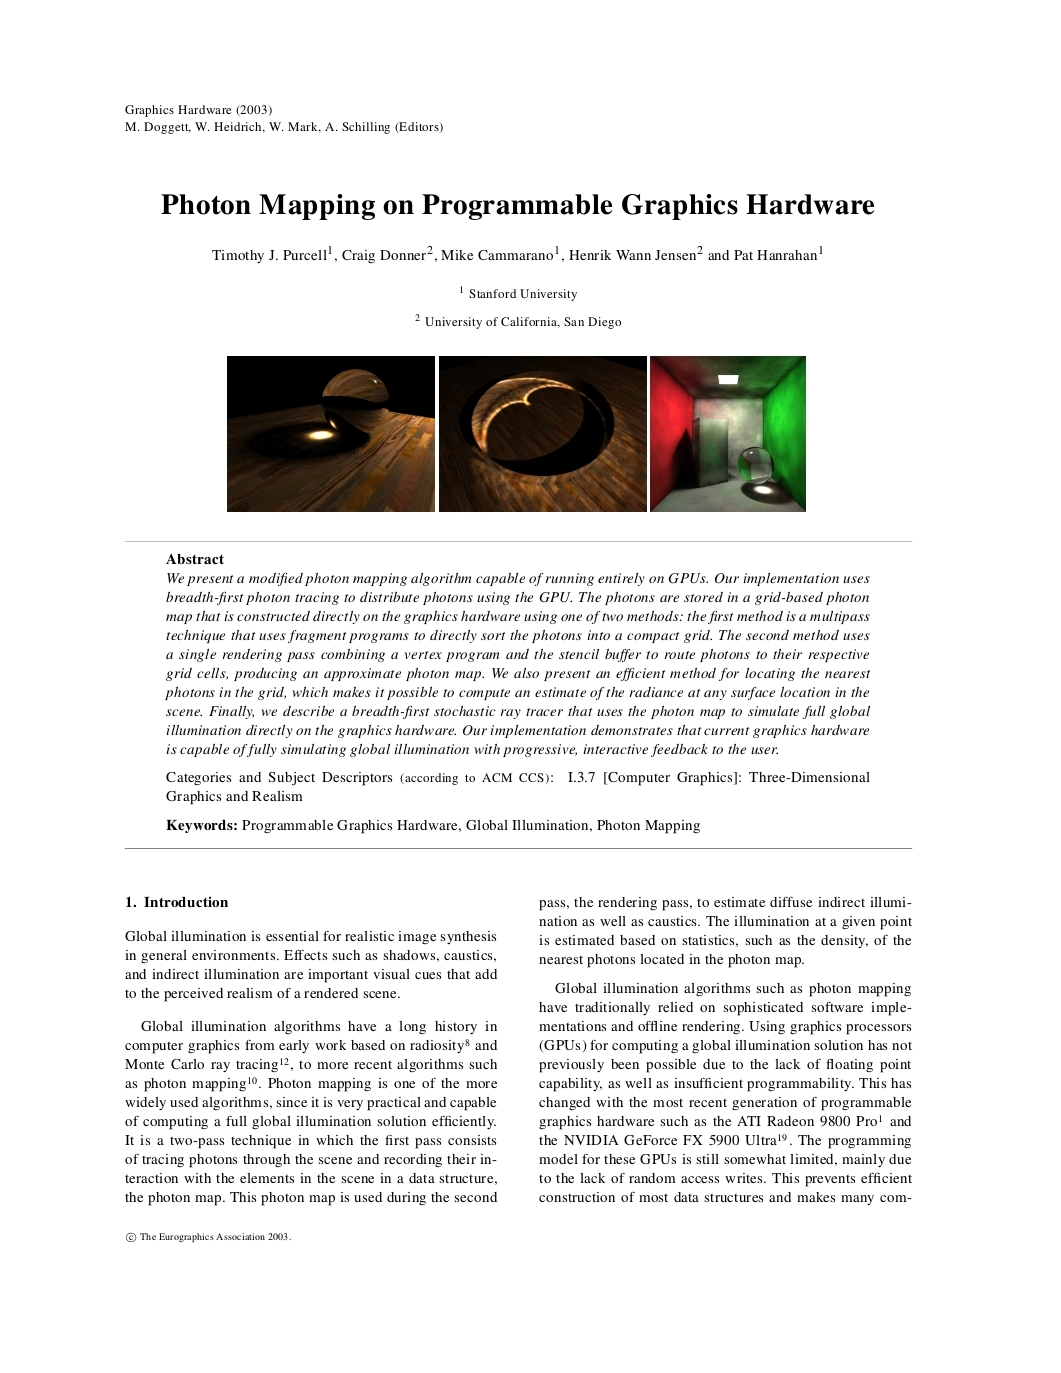figure: (439, 356, 646, 512), (227, 356, 434, 510), (650, 356, 805, 512)
